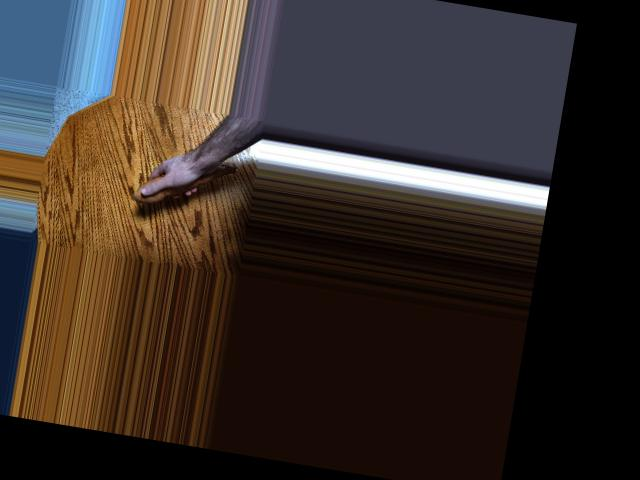sweet_potato: (137, 146, 240, 215)
